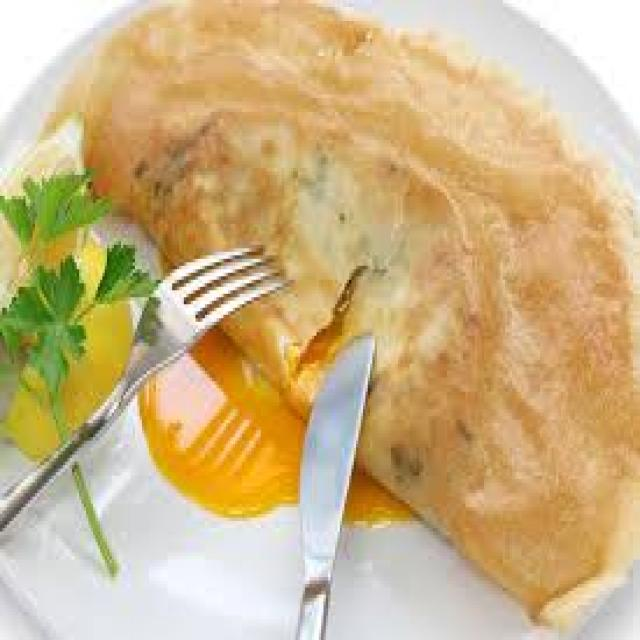brik: (116, 49, 640, 476)
